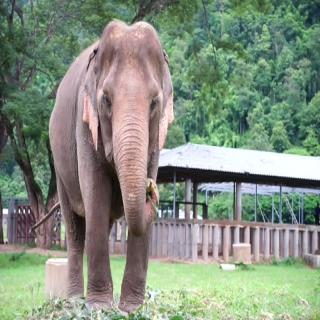Elephant: (49, 14, 177, 315)
